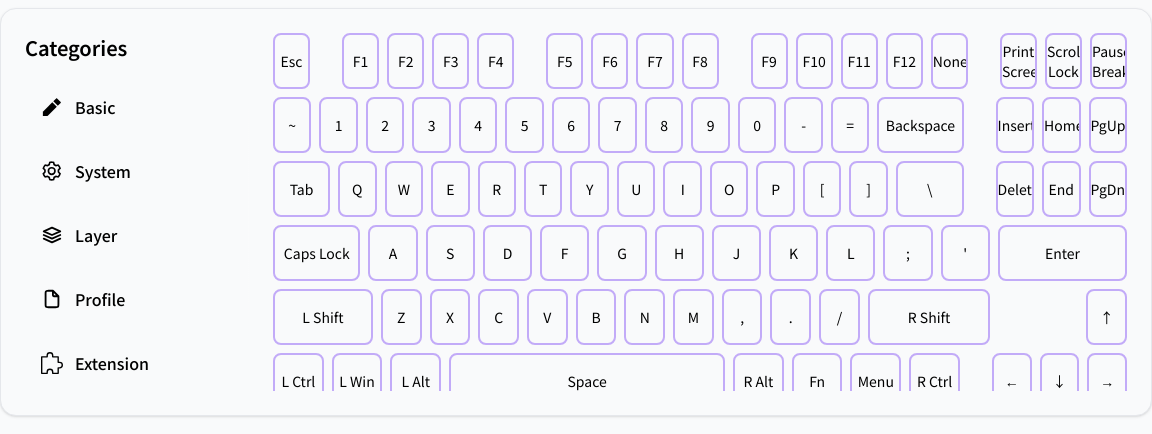
it: RemapPage › no selection › sends nothing to the keyboard and loads no brush
Step 1. Click the button "Q" → (357, 189), box x1=338 y1=161 x2=376 y2=217
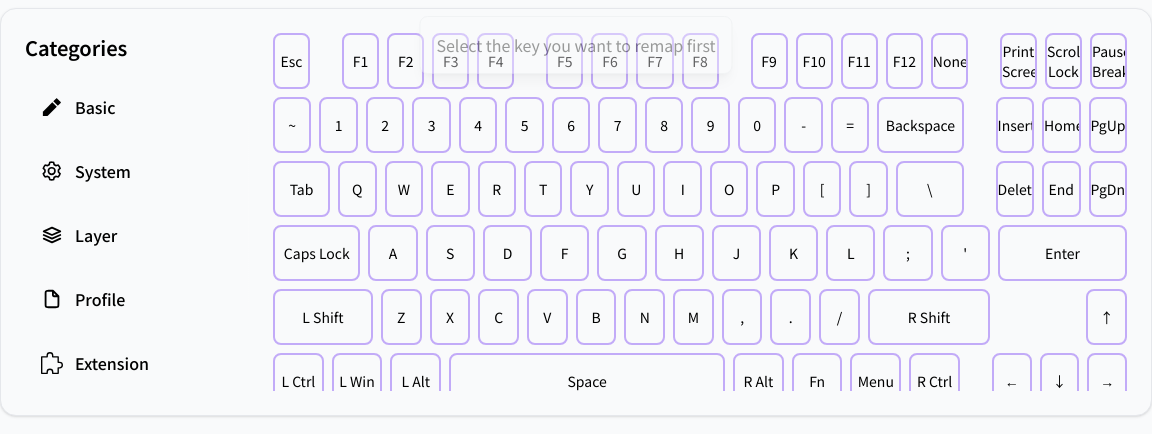
Expected: the text "Select the key you want to remap first" is shown, x1=420 y1=16 x2=733 y2=74
